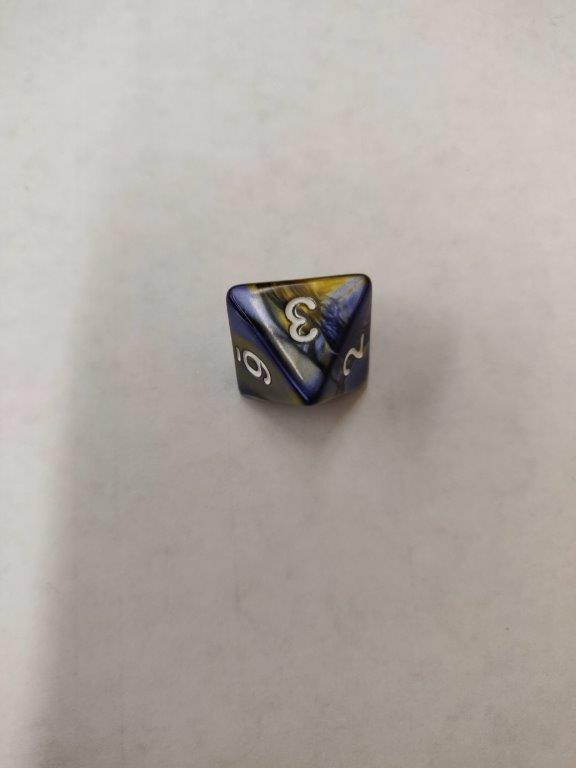d8-3: (227, 272, 373, 400)
